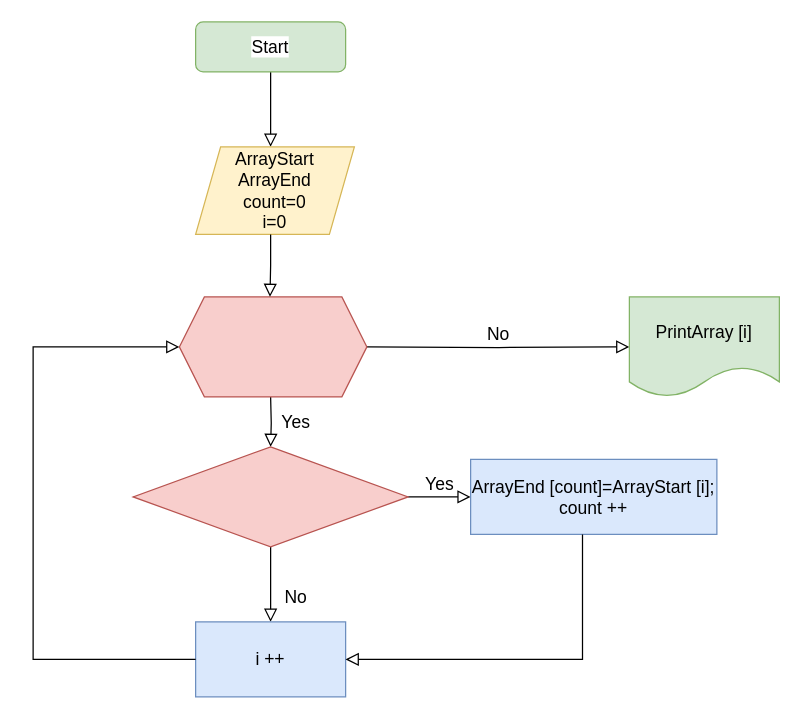
Some shapes in this 801 by 719 pixel diagram are drawn without their labels. The box of each missing label's shape, as (x1, y1, x2, y2) in pixels:
ArrayStart[i].Length<=3: (132, 446, 408, 547)
i=0 i<ArrauStart.Length: (178, 296, 367, 397)
